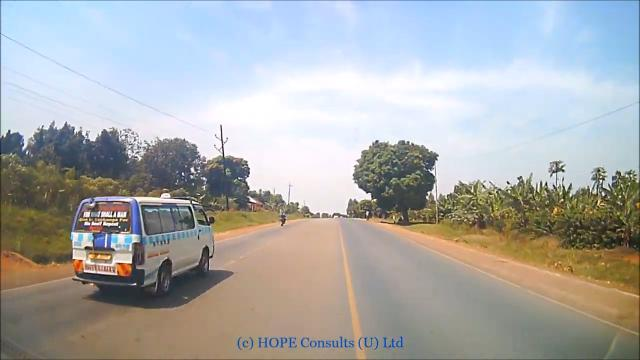van: (62, 193, 223, 292)
